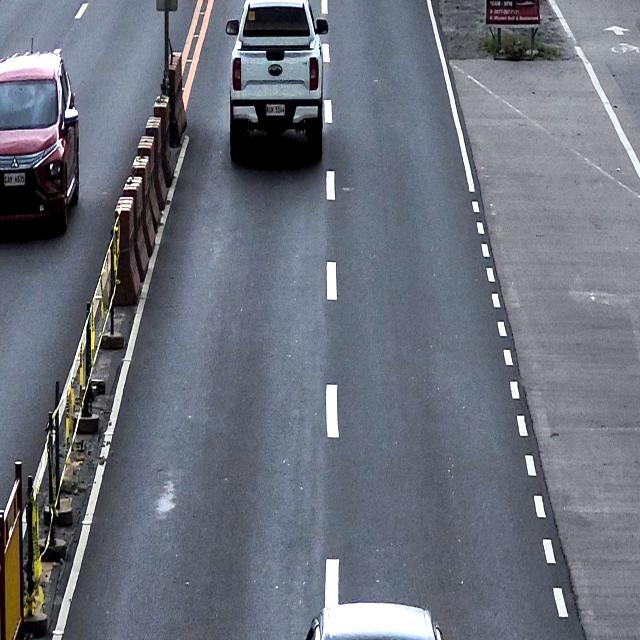Car: (225, 0, 329, 162), (0, 41, 80, 232), (308, 599, 444, 640)
License-Plate: (3, 172, 27, 187), (264, 103, 286, 117)
